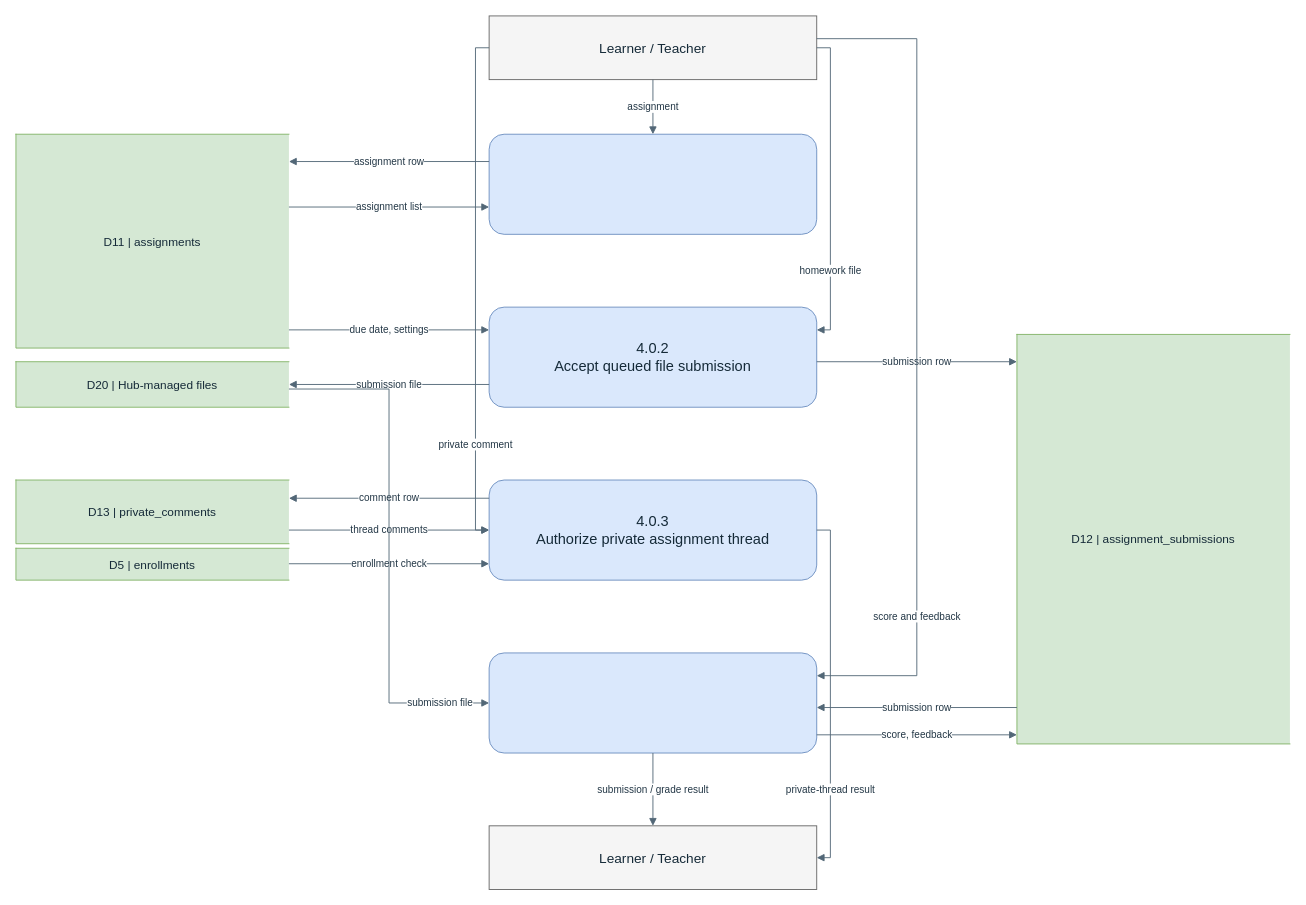
Image size: 1306x905. Some labels were removed from this diagram. Each missing label, with the box of its shape:
4.0.1 Create or retrieve assignment: (488, 133, 817, 234)
4.0.4 Grade submission and return feedback: (488, 652, 817, 753)
